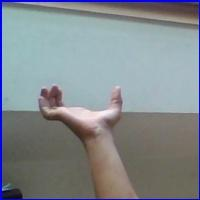space: (33, 80, 132, 147)
